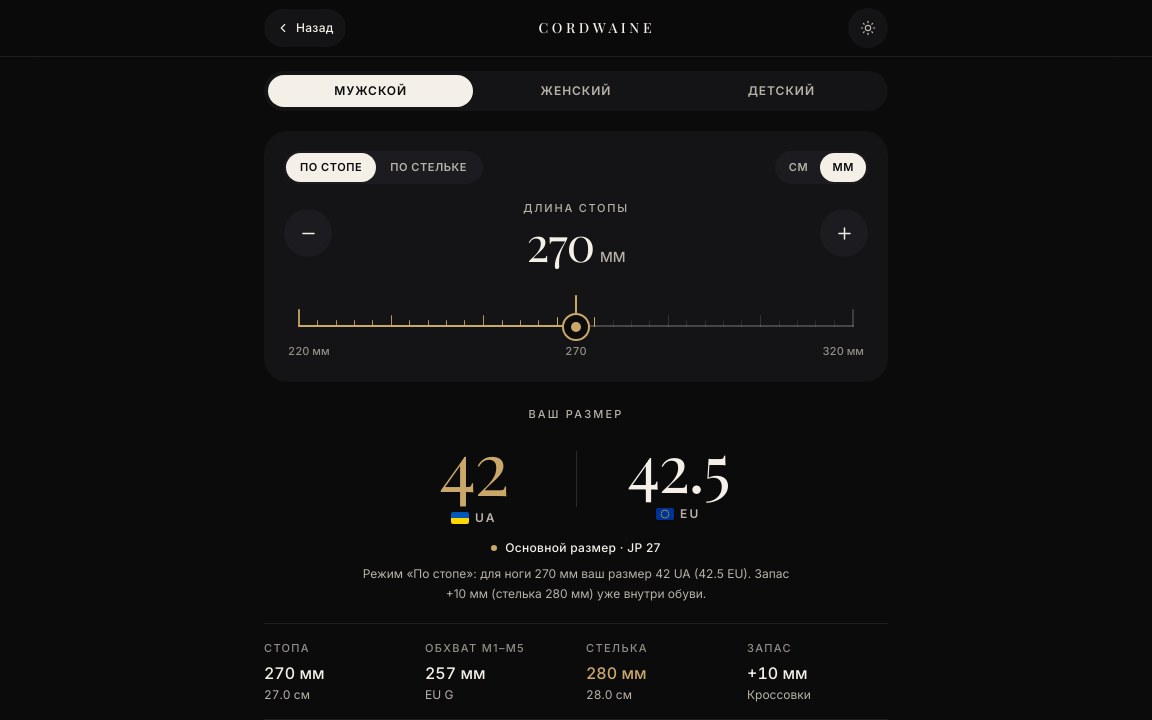
Test: SizeCalcPage — интеграционные тесты › зажимает длину стопы при переключении на «Детский» и сохраняет настройки
Step 1. Click the button "Детский" → (781, 91), box [679, 75, 884, 107]
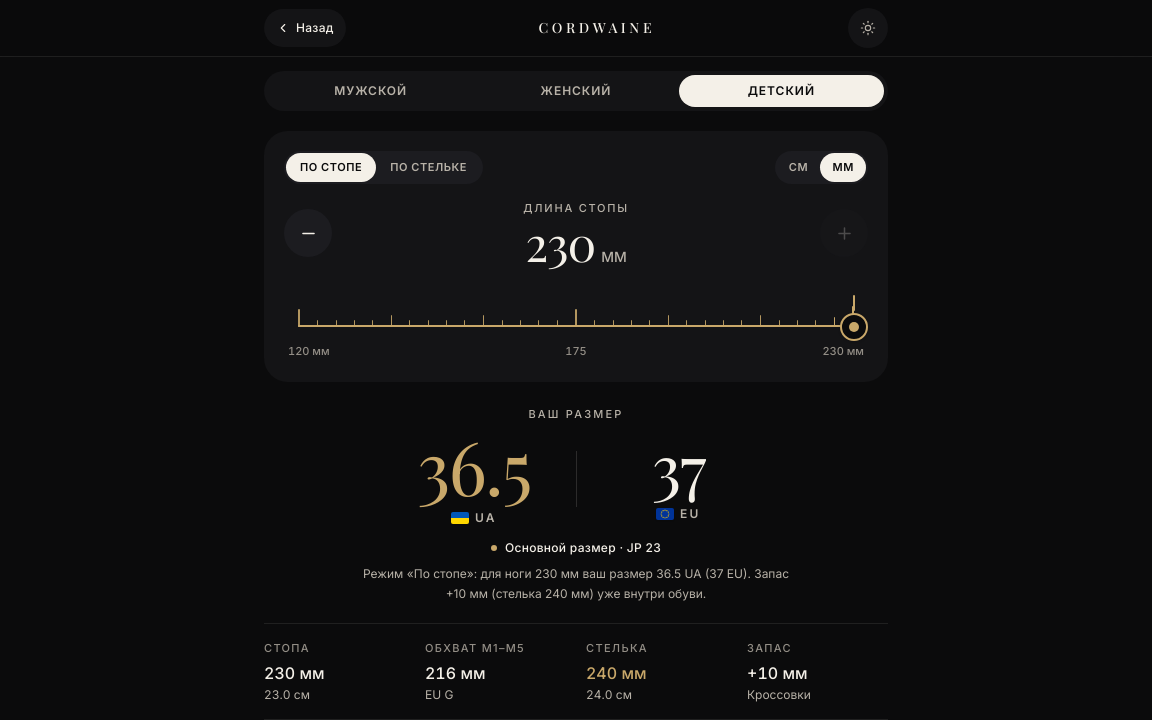
Now the text "230" is shown, box [525, 218, 595, 266]
Now the text "36.5" is shown, box [417, 432, 531, 500]
Now the text "37" is shown, box [652, 436, 705, 496]
